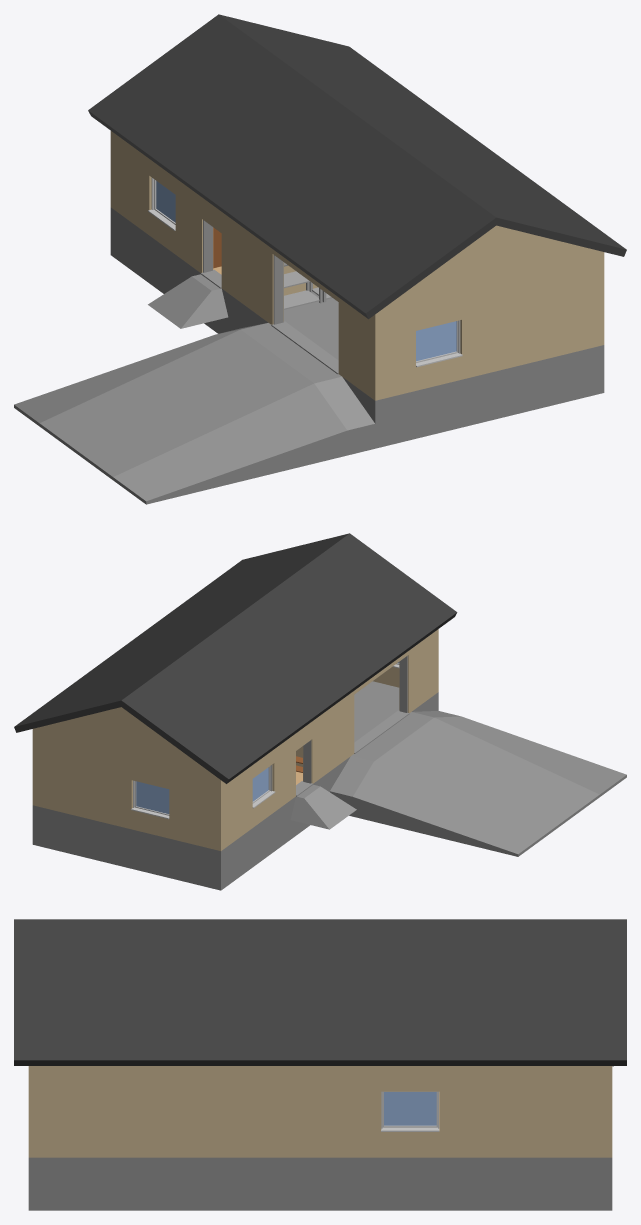
File: PlayerHouse.fbx
3 views of the same model, one above another, from view 1: azimuth 30°, elevation 25°; view 2: azimuth 150°, elevation 25°; view 3: azimuth 270°, elevation 25° (orthographic). The views are drawn at different scales.
Parts seen in each view (by area): view 1: Base, RoofPanel.001; view 2: Base, RoofPanel.001; view 3: RoofPanel.001, Base.
Part boxes in pixels (<box>): Base: <box>14,131,604,504</box>; RoofPanel.001: <box>88,14,626,319</box>; Base: <box>32,629,626,890</box>; RoofPanel.001: <box>14,533,457,783</box>; RoofPanel.001: <box>14,919,626,1065</box>; Base: <box>28,1066,613,1210</box>.
Size of the model in its own units: 20.7 by 21 by 8.68.
